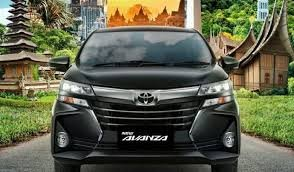mobil: (45, 25, 242, 172)
